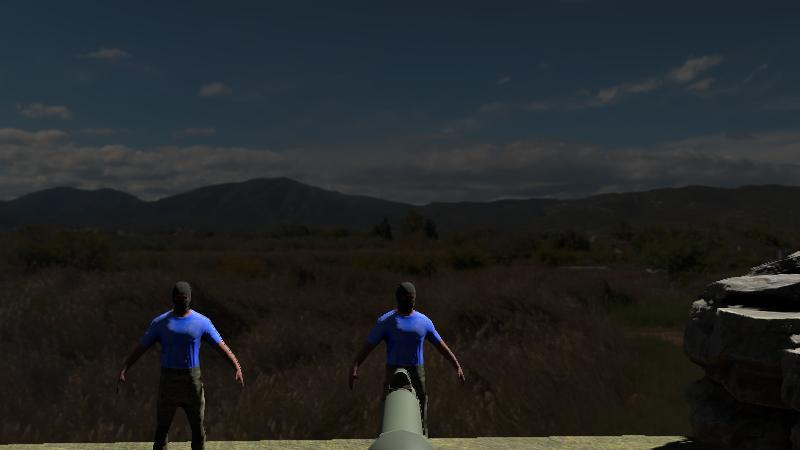Human: (119, 279, 244, 448), (349, 280, 465, 447)
